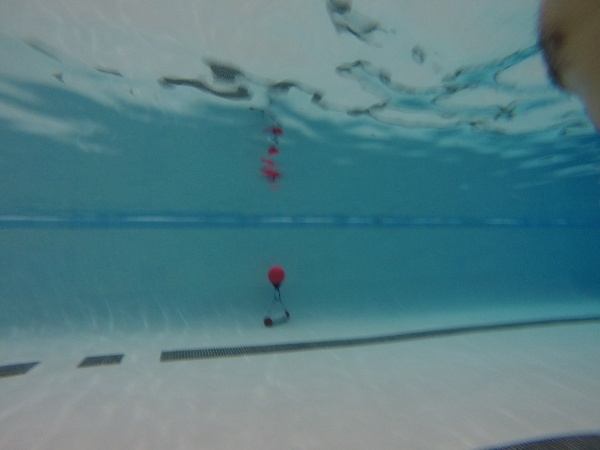buoy_red: (264, 265, 287, 291)
